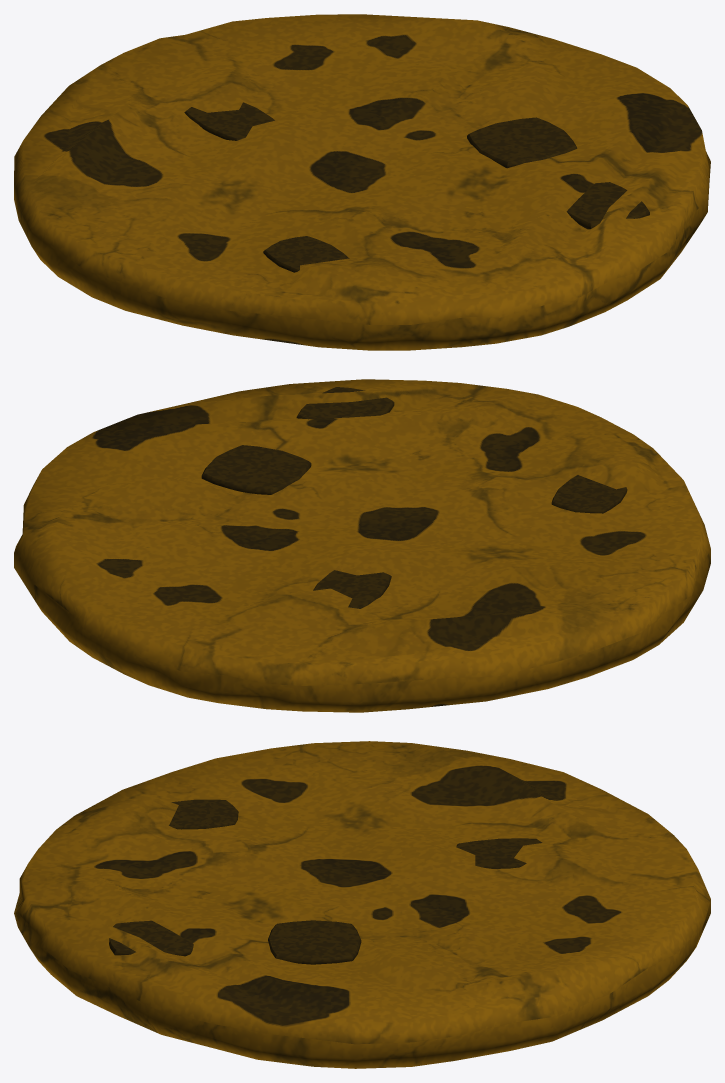
The model's file is bb_ccchb.fbx.
3 views of the same model, one above another, from view 1: azimuth 30°, elevation 25°; view 2: azimuth 150°, elevation 25°; view 3: azimuth 270°, elevation 25° (orthographic). The views are drawn at different scales.
Parts seen in each view (by area): view 1: polySurface1; view 2: polySurface1; view 3: polySurface1.
Boxes of the visible parts, x1,y1,x2,y2 form: polySurface1: [14, 14, 710, 350]; polySurface1: [14, 379, 710, 712]; polySurface1: [14, 741, 710, 1068].
Bounding box in the file's own units: 1.29 × 0.1291 × 1.31.
